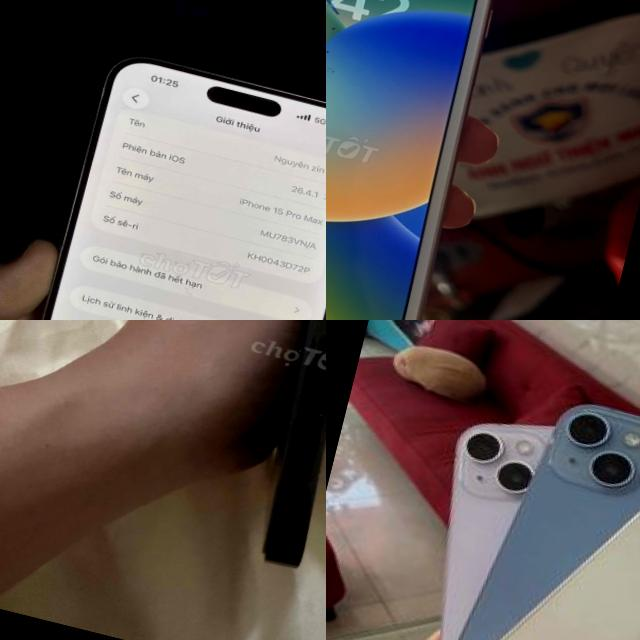screen_defect: (326, 47, 340, 91), (326, 21, 341, 32), (326, 43, 334, 55)
